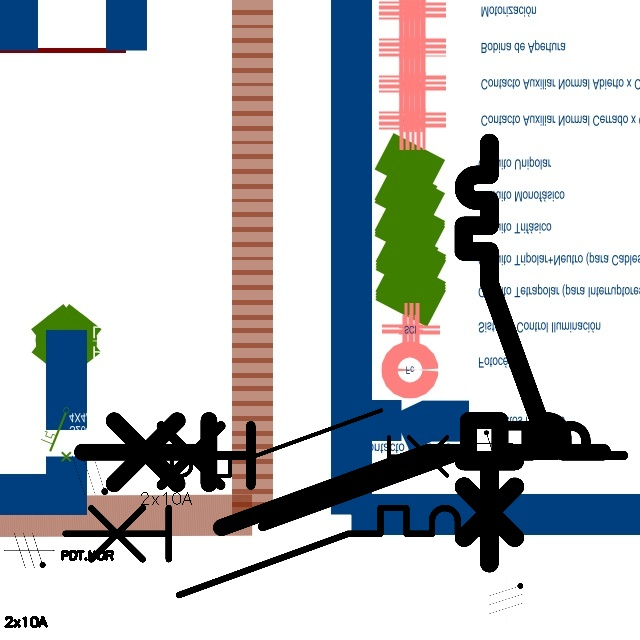interruptor_termomagnetico: (69, 407, 616, 541), (118, 413, 635, 539), (54, 497, 500, 606), (453, 132, 561, 574), (139, 402, 475, 484)
